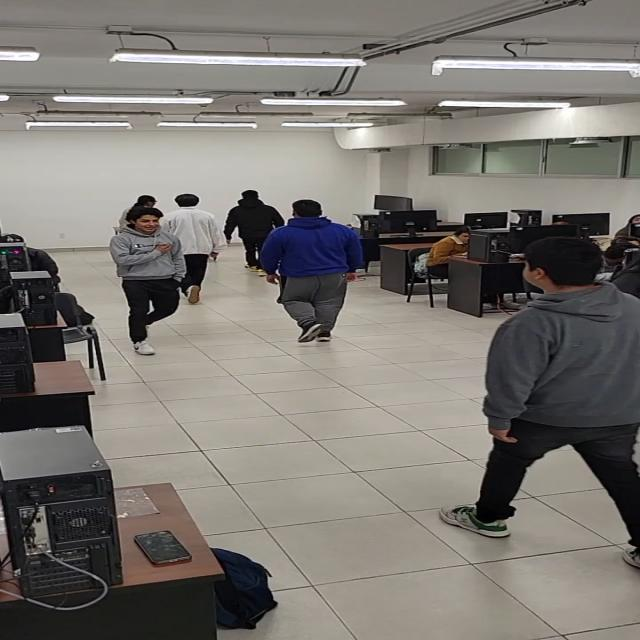Persona: (434, 234, 640, 570), (258, 199, 366, 343), (108, 207, 188, 355), (158, 193, 227, 305), (222, 190, 287, 278), (119, 194, 165, 243)
